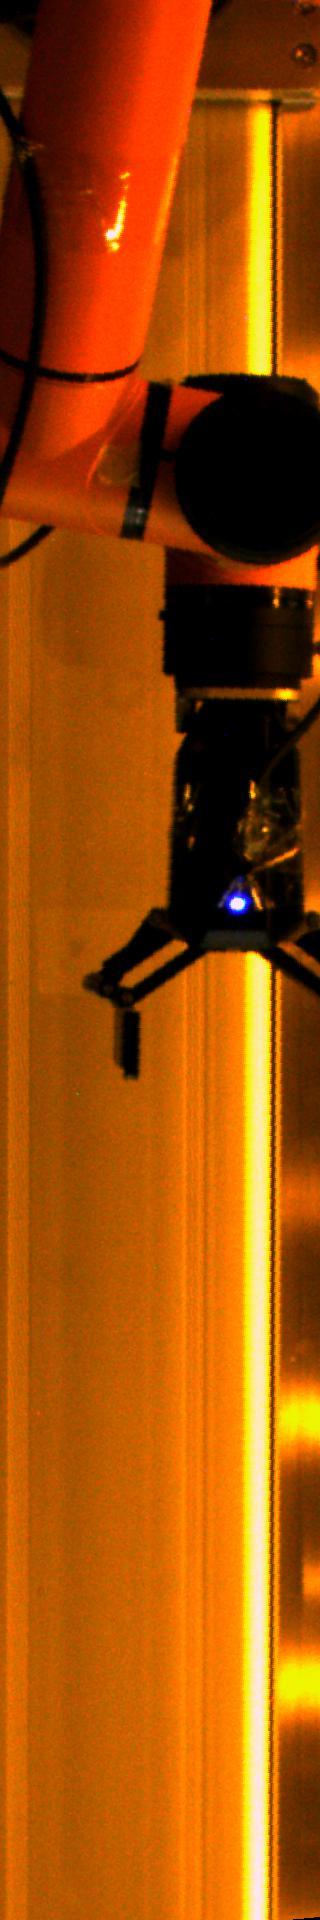keyPoint_1: (223, 887, 253, 917)
